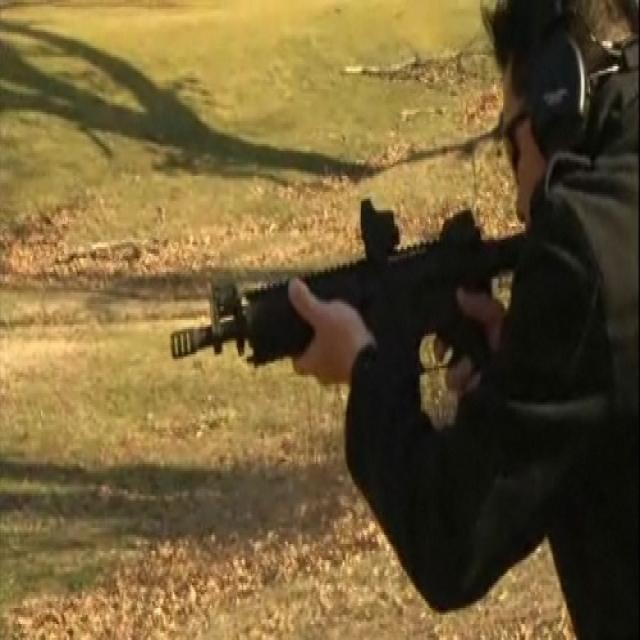rifle: (161, 193, 536, 434)
